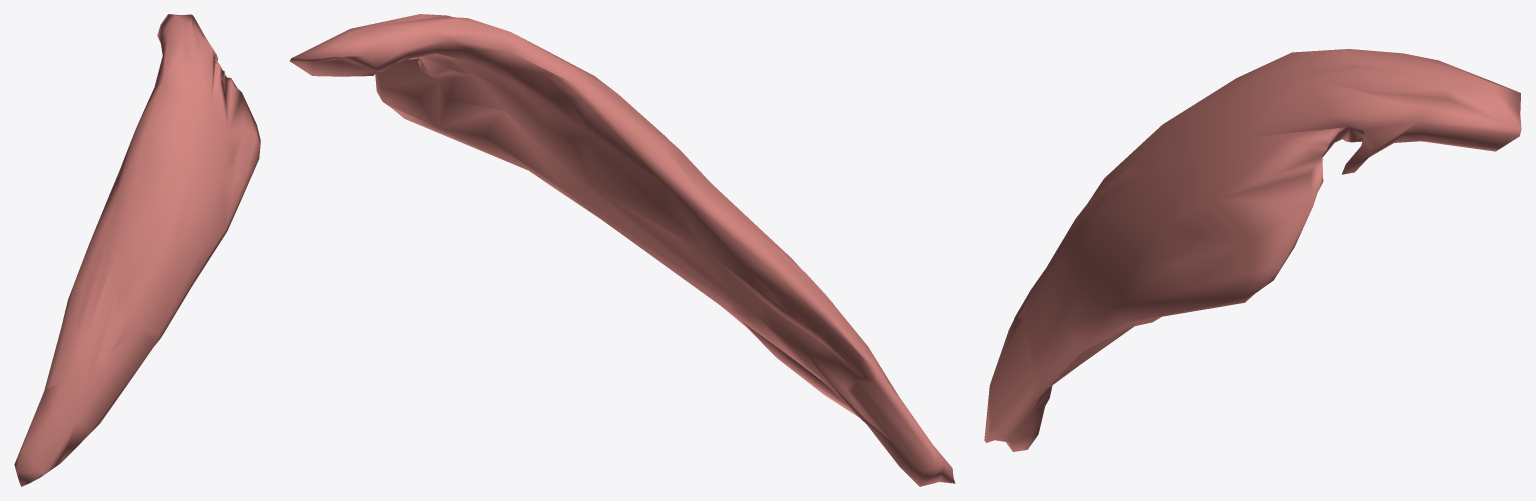
The picture shows the model from 3 angles, left to right: view 1: azimuth 30°, elevation 25°; view 2: azimuth 150°, elevation 25°; view 3: azimuth 270°, elevation 25°; orthographic projection. The views are drawn at different scales.
Visible parts, largest first — view 1: ZA_6787d74597d004ea; view 2: ZA_6787d74597d004ea; view 3: ZA_6787d74597d004ea.
Part boxes in pixels (x1=…): ZA_6787d74597d004ea: x1=14, y1=14, x2=260, y2=486; ZA_6787d74597d004ea: x1=289, y1=14, x2=955, y2=486; ZA_6787d74597d004ea: x1=984, y1=49, x2=1521, y2=451.
Size of the model in its own units: 0.0407 by 0.0395 by 0.0306.
